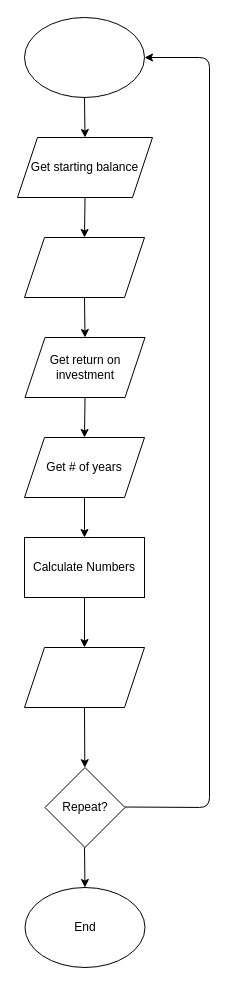
The diagram is 235 pixels wide and 985 high, and some of its shapes have lost their labels. The shapes that lost their labels are listed below. From the top down, each one's centre as x and y in pixels, then its label:
At (84,57): "Start".
At (84,267): "Get yearly contribution".
At (84,677): "Display Result".
